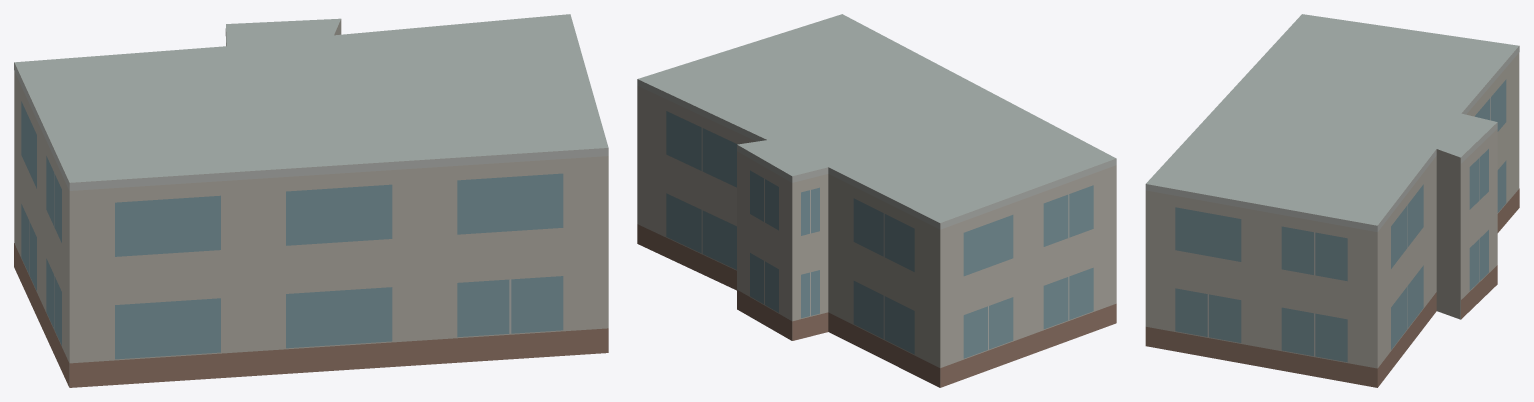
File: survey-upis-32868434.glb
3 renders of one model, left to right at view 1: azimuth 30°, elevation 25°; view 2: azimuth 150°, elevation 25°; view 3: azimuth 270°, elevation 25°, orthographic. The views are drawn at different scales.
Parts seen in each view (by area): view 1: survey-upis-32868434.tmp; view 2: survey-upis-32868434.tmp; view 3: survey-upis-32868434.tmp.
Boxes of the visible parts, <box> form: survey-upis-32868434.tmp: <box>14,14,608,387</box>; survey-upis-32868434.tmp: <box>637,14,1116,387</box>; survey-upis-32868434.tmp: <box>1145,14,1519,387</box>.
Bounding box in the file's own units: 17.09 × 6.1 × 12.75.
